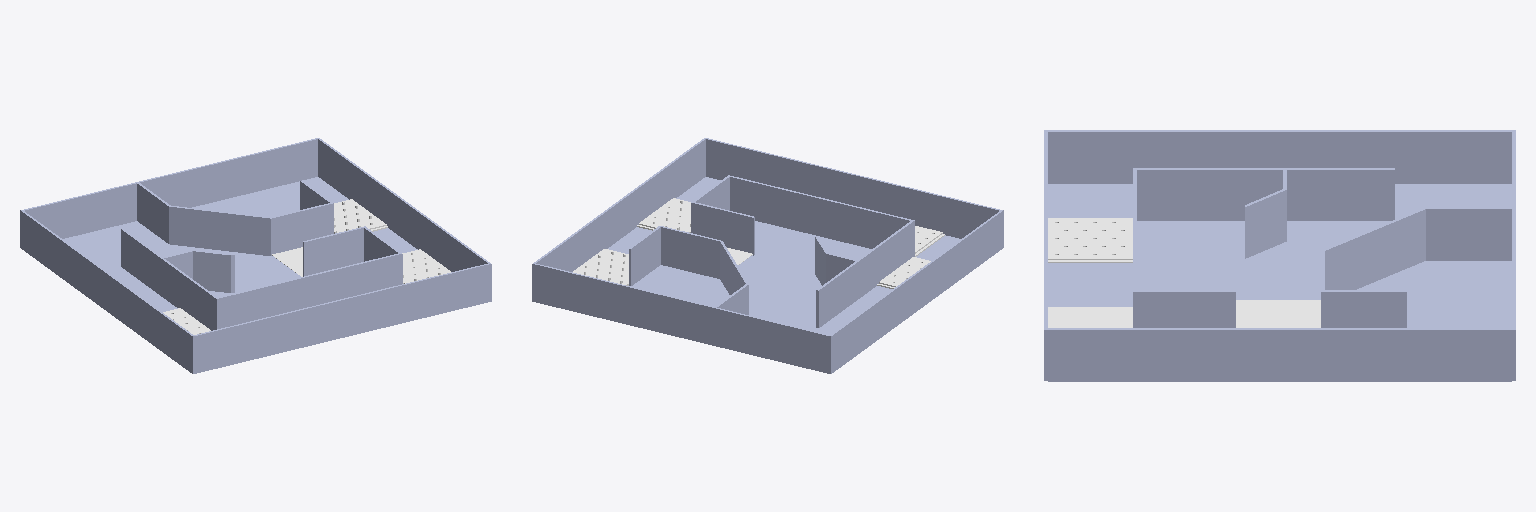
URDF robot description (Arena_URDF):
<?xml version="1.0" encoding="utf-8"?>
<!-- This URDF was automatically created by SolidWorks to URDF Exporter! Originally created by [author] ([email redacted]) 
     Commit Version: 1.6.0-1-g15f4949  Build Version: 1.6.7594.29634
     For more information, please see http://wiki.ros.org/sw_urdf_exporter -->
<robot
  name="Arena_URDF">
  <link
    name="base_link">
    <inertial>
      <origin
        xyz="1.23205757931726 0.0887346141532557 -1.21899628133998"
        rpy="0 0 0" />
      <mass
        value="151.242640880102" />
      <inertia
        ixx="87.7903709942697"
        ixy="3.69586134970905E-15"
        ixz="-3.63439884242386"
        iyy="180.769539338067"
        iyz="3.43371103041904E-15"
        izz="94.3521005444993" />
    </inertial>
    <visual>
      <origin
        xyz="0 0 0"
        rpy="0 0 0" />
      <geometry>
        <mesh
          filename="package://Arena_URDF/meshes/base_link.STL" />
      </geometry>
      <material
        name="">
        <color
          rgba="0.792156862745098 0.819607843137255 0.933333333333333 1" />
      </material>
    </visual>
    <collision>
      <origin
        xyz="0 0 0"
        rpy="0 0 0" />
      <geometry>
        <mesh
          filename="package://Arena_URDF/meshes/base_link.STL" />
      </geometry>
    </collision>
  </link>
  <link
    name="Link_trap">
    <inertial>
      <origin
        xyz="0.133116318996327 -0.0101167211128155 1.37693718494523"
        rpy="0 0 0" />
      <mass
        value="19.2648362938564" />
      <inertia
        ixx="0.354675164109579"
        ixy="-1.24164453645209E-07"
        ixz="-9.12571784185893E-16"
        iyy="0.760389829344902"
        iyz="-6.04385404637949E-06"
        izz="0.40710358092682" />
    </inertial>
    <visual>
      <origin
        xyz="0 0 0"
        rpy="0 0 0" />
      <geometry>
        <mesh
          filename="package://Arena_URDF/meshes/Link_trap.STL" />
      </geometry>
      <material
        name="">
        <color
          rgba="1 1 1 1" />
      </material>
    </visual>
    <collision>
      <origin
        xyz="0 0 0"
        rpy="0 0 0" />
      <geometry>
        <mesh
          filename="package://Arena_URDF/meshes/Link_trap.STL" />
      </geometry>
    </collision>
  </link>
  <joint
    name="Trap"
    type="fixed">
    <origin
      xyz="0.01951 1.0061 -0.00017445"
      rpy="-1.5708 0 -1.5708" />
    <parent
      link="base_link" />
    <child
      link="Link_trap" />
    <axis
      xyz="0 0 0" />
  </joint>
</robot>

--- What the picture shows (computed from the rendered views, not written in the file) ---
The picture shows the robot from 3 angles, left to right: view 1: azimuth 30°, elevation 25°; view 2: azimuth 150°, elevation 25°; view 3: azimuth 270°, elevation 25°; orthographic projection.
Model Arena_URDF with 2 links and 1 joints (1 fixed), rooted at base_link, posed all joints at 0.
Visible links, largest first — view 1: base_link, Link_trap; view 2: base_link, Link_trap; view 3: base_link, Link_trap.
Boxes of the visible links, x1,y1,x2,y2 form: base_link: (20,138,491,373); Link_trap: (163,199,450,334); base_link: (532,138,1003,373); Link_trap: (573,198,944,288); base_link: (1044,130,1515,381); Link_trap: (1048,218,1320,327).
Bounding box of the posed robot: 2.48 × 2.48 × 0.31 m (x, y, z).
Meshes: 2 distinct files referenced, 2 mesh visuals loaded (2 binary STL).